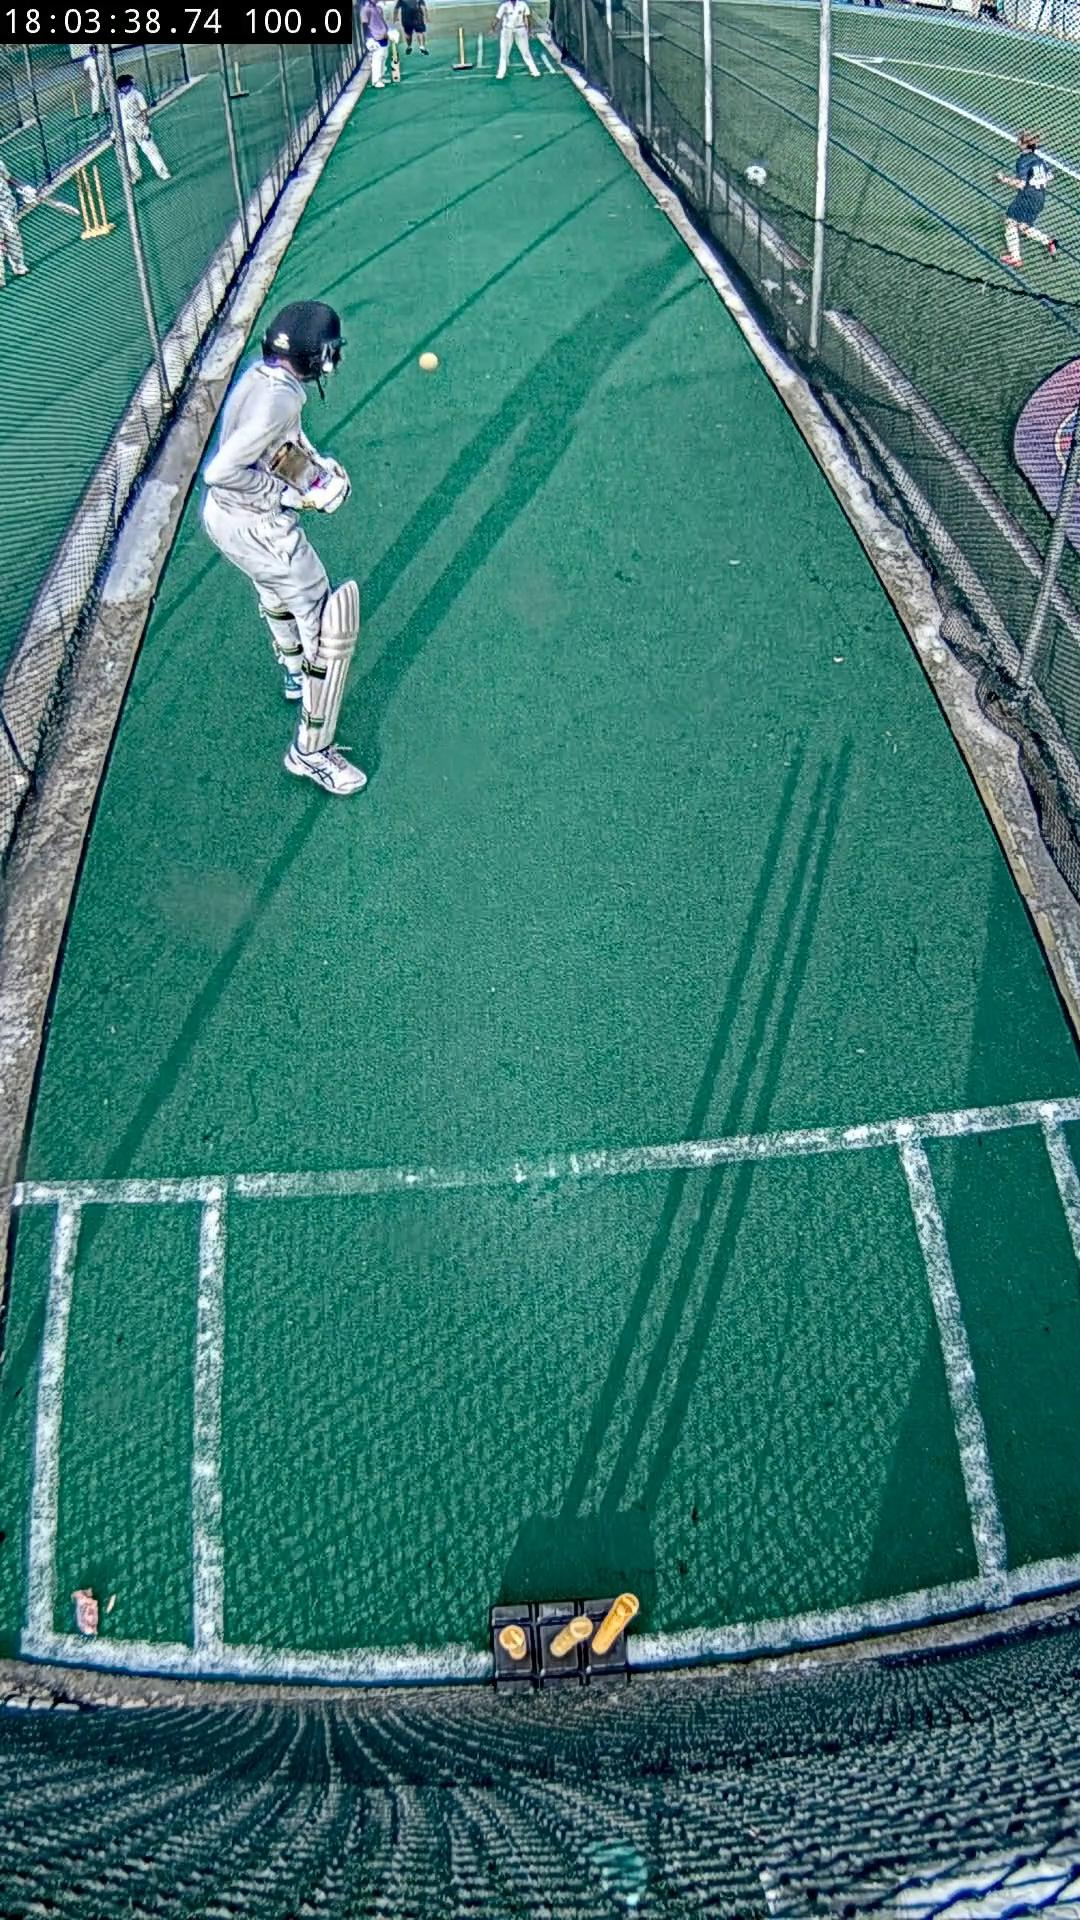ball: (417, 352, 439, 369)
bat: (258, 439, 323, 506)
gloves: (281, 480, 352, 530)
helmet: (262, 301, 345, 382)
pads: (307, 582, 360, 746), (303, 675, 315, 721)
stumps: (492, 1594, 641, 1692)
